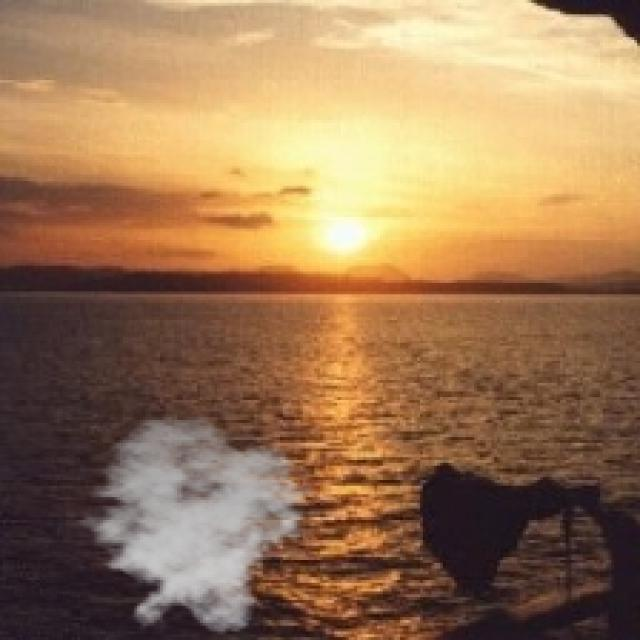smoke: (63, 414, 314, 634)
